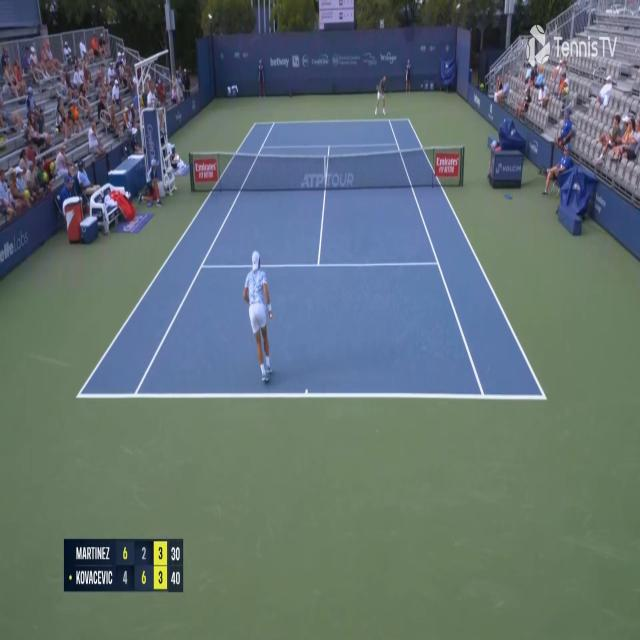tennis-player: (242, 247, 275, 384), (374, 73, 388, 117)
